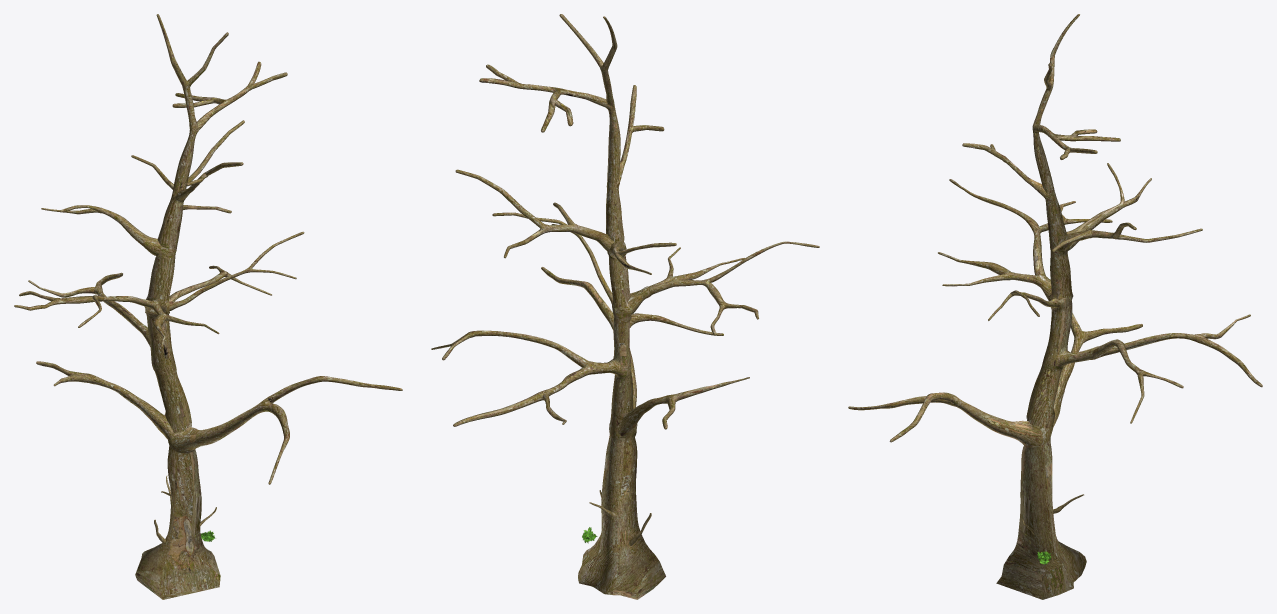
The model's file is tree.glb.
The picture shows the model from 3 angles, left to right: view 1: azimuth 30°, elevation 25°; view 2: azimuth 150°, elevation 25°; view 3: azimuth 270°, elevation 25°; orthographic projection. The views are drawn at different scales.
Parts seen in each view (by area): view 1: Tree2; view 2: Tree2; view 3: Tree2.
Boxes of the visible parts, bbox=[...] form: Tree2: bbox=[14, 14, 402, 599]; Tree2: bbox=[431, 14, 819, 599]; Tree2: bbox=[848, 14, 1262, 599].
Bounding box in the file's own units: 32.39 × 58.26 × 38.26.
Materials: 3 (3 with a texture image).
